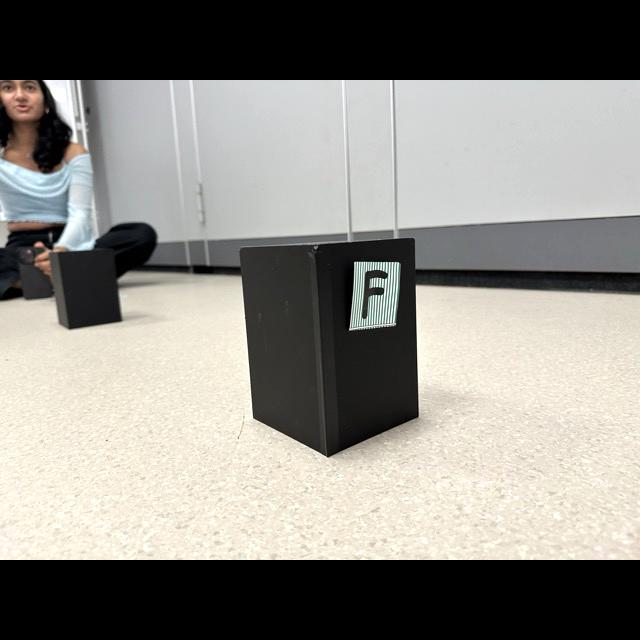F: (363, 270, 386, 317)
